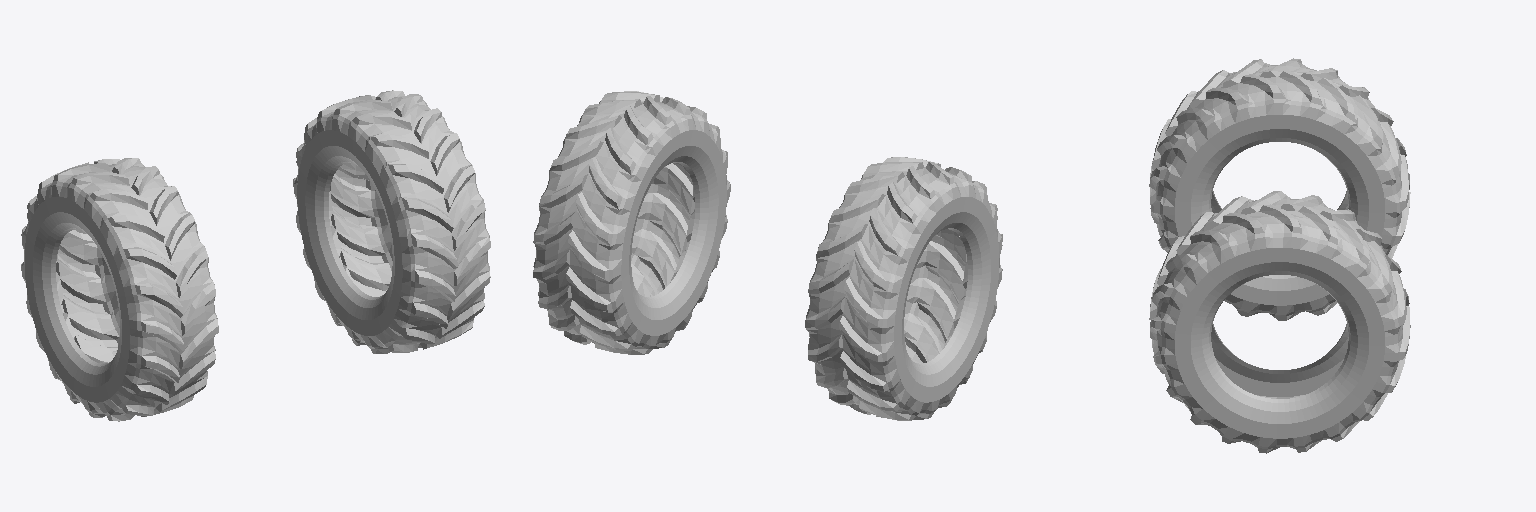
The model's file is tracwheels.obj.
The picture shows the model from 3 angles: view 1: azimuth 30°, elevation 25°; view 2: azimuth 150°, elevation 25°; view 3: azimuth 270°, elevation 25°; orthographic projection.
Parts seen in each view (by area): view 1: Non_subD; view 2: Non_subD; view 3: Non_subD.
Part boxes in pixels (x1,y1,x2,y2): Non_subD: (21,90,490,421); Non_subD: (533,91,1002,420); Non_subD: (1149,58,1410,453).
Size of the model in its own units: 0.6552 by 0.4145 by 0.4145.